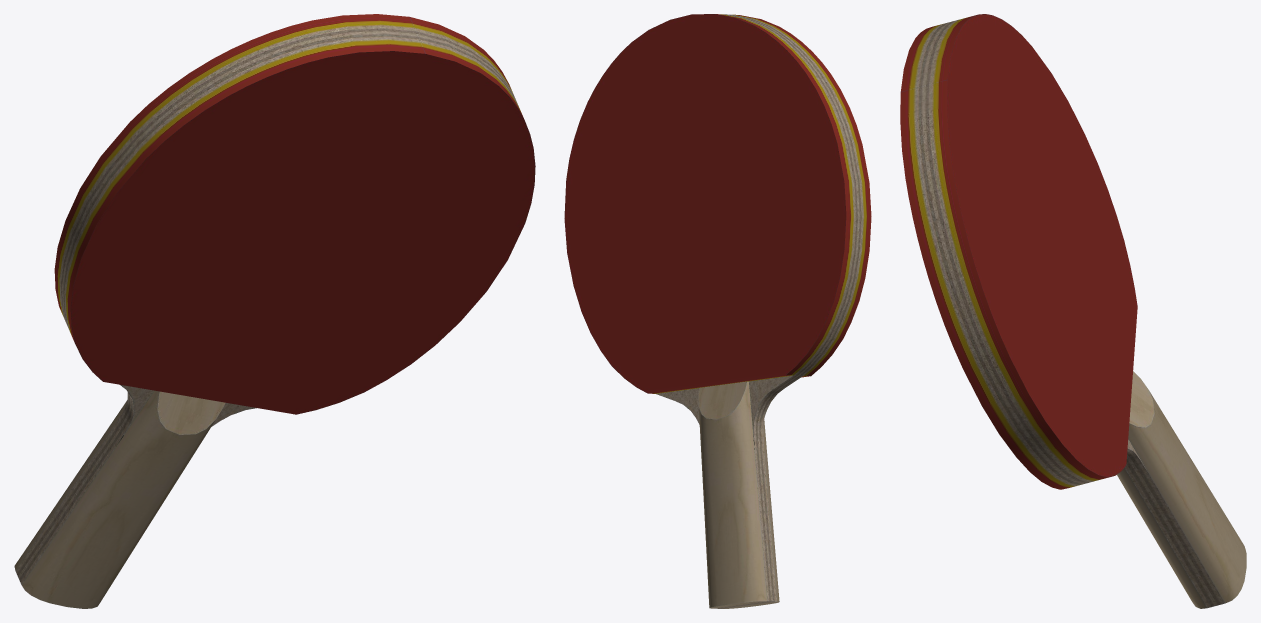
Rendered from PADDLE.obj.
3 views of the same model, side by side, from view 1: azimuth 30°, elevation 25°; view 2: azimuth 150°, elevation 25°; view 3: azimuth 270°, elevation 25° (orthographic). The views are drawn at different scales.
Visible parts, largest first — view 1: PADDLE; view 2: PADDLE; view 3: PADDLE.
Boxes of the visible parts, box(x1,y1,x2,y2) form: PADDLE: box(14, 14, 535, 608); PADDLE: box(564, 14, 871, 608); PADDLE: box(900, 14, 1246, 608).
Bounding box in the file's own units: 0.1652 × 0.2486 × 0.1249.
1 material, 1 textured.
